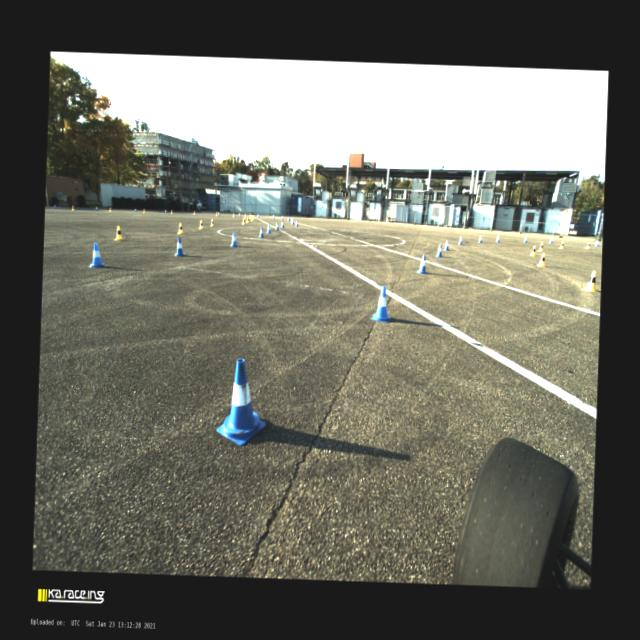blue_cone: (215, 357, 268, 446), (370, 284, 392, 322), (86, 242, 106, 268), (173, 237, 186, 256), (416, 254, 427, 274), (434, 242, 442, 256), (230, 232, 238, 246), (442, 239, 450, 250), (258, 226, 264, 237), (266, 223, 271, 233), (494, 234, 500, 242), (274, 222, 280, 230), (477, 235, 482, 242), (522, 235, 527, 242), (548, 236, 553, 243), (458, 236, 462, 244), (280, 220, 284, 228), (290, 217, 294, 224), (594, 240, 598, 246), (295, 220, 298, 227), (286, 216, 290, 221), (280, 215, 284, 220), (256, 213, 259, 218), (271, 214, 274, 218), (53, 204, 56, 208), (134, 208, 136, 212), (96, 206, 98, 210), (164, 208, 166, 212), (238, 212, 240, 216), (218, 211, 220, 215)
yellow_cone: (582, 270, 598, 292), (114, 226, 125, 240), (536, 252, 546, 266), (176, 222, 184, 234), (528, 245, 536, 256), (536, 242, 542, 251), (558, 240, 564, 248), (198, 220, 203, 229), (585, 240, 590, 248), (210, 218, 214, 226), (71, 204, 75, 210), (108, 206, 112, 212), (142, 208, 145, 213), (242, 218, 244, 225), (246, 216, 248, 223), (232, 212, 234, 217), (215, 211, 217, 216), (244, 213, 246, 218), (250, 216, 252, 221), (252, 214, 254, 219), (193, 210, 195, 214), (249, 214, 251, 218), (170, 210, 172, 213)
